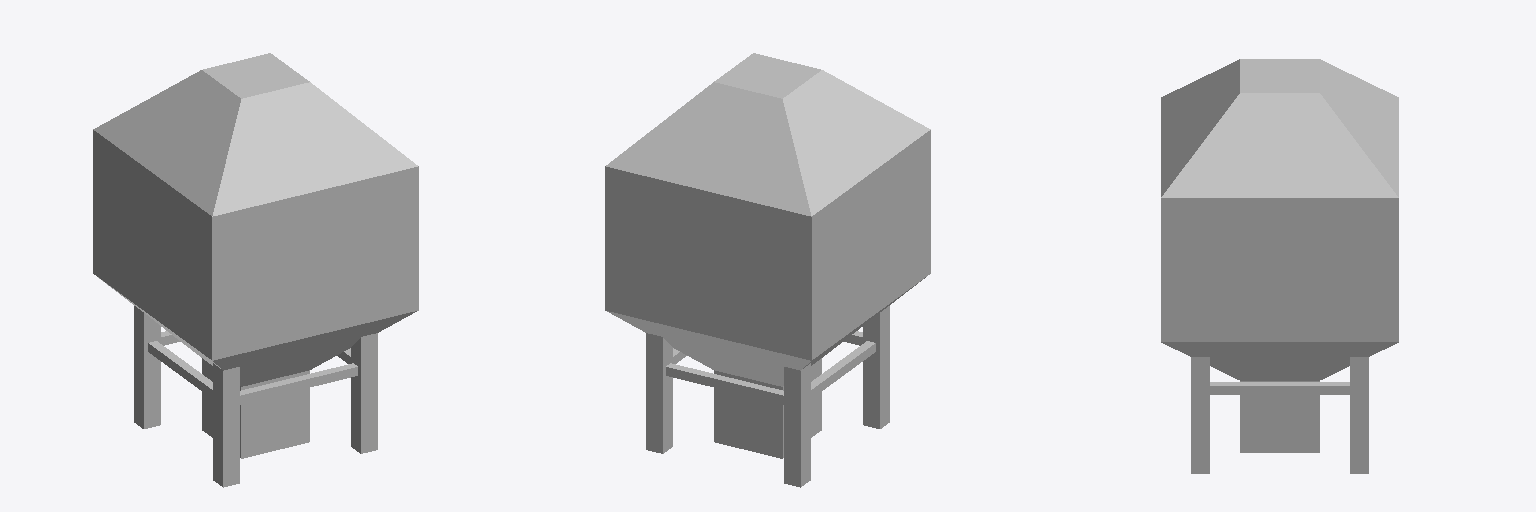
The model's file is tank.obj.
The picture shows the model from 3 angles: view 1: azimuth 30°, elevation 25°; view 2: azimuth 150°, elevation 25°; view 3: azimuth 270°, elevation 25°; orthographic projection.
Parts seen in each view (by area): view 1: cube; view 2: cube; view 3: cube.
Boxes of the visible parts, <box> form: cube: <box>93,53,418,487</box>; cube: <box>605,53,930,487</box>; cube: <box>1161,59,1398,473</box>.
Size of the model in its own units: 3 by 5 by 3.